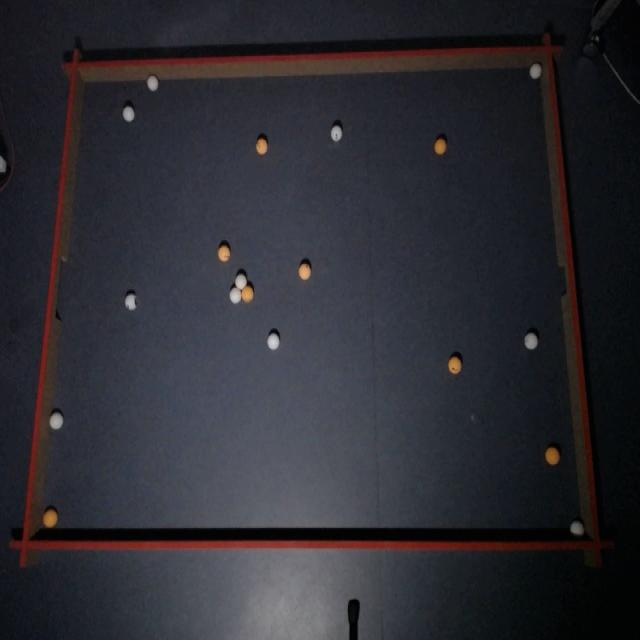orange_ball: (42, 508, 58, 529), (545, 446, 560, 466), (448, 356, 462, 374), (434, 135, 447, 154), (241, 284, 254, 302), (218, 244, 230, 262), (299, 263, 311, 280), (256, 140, 265, 153)
white_ball: (49, 410, 64, 430), (524, 332, 538, 350), (570, 519, 584, 537), (267, 332, 280, 351), (529, 62, 542, 79), (235, 271, 247, 289), (123, 105, 135, 122), (146, 75, 158, 91), (230, 286, 240, 303), (331, 125, 341, 141), (130, 296, 138, 308)
